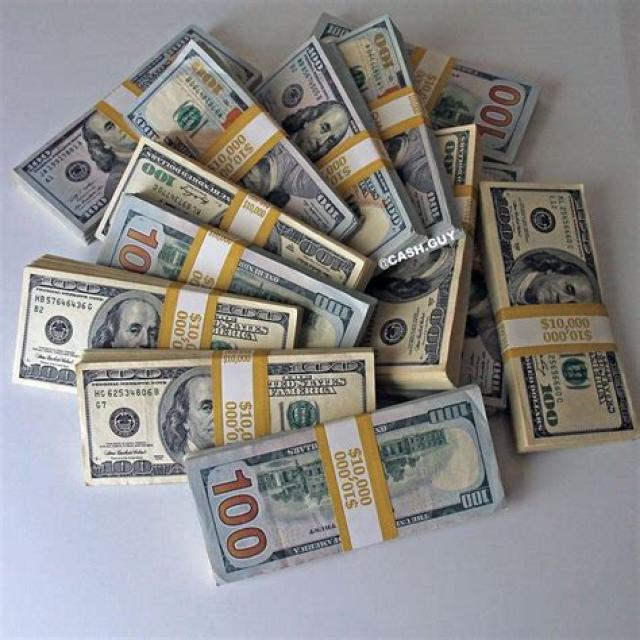Hundred: (185, 383, 506, 584), (17, 29, 260, 242), (126, 38, 354, 245), (99, 194, 368, 359), (478, 185, 640, 449), (79, 348, 374, 490), (15, 267, 292, 395), (260, 41, 412, 259), (367, 124, 477, 383), (336, 17, 454, 234), (407, 47, 542, 163)
